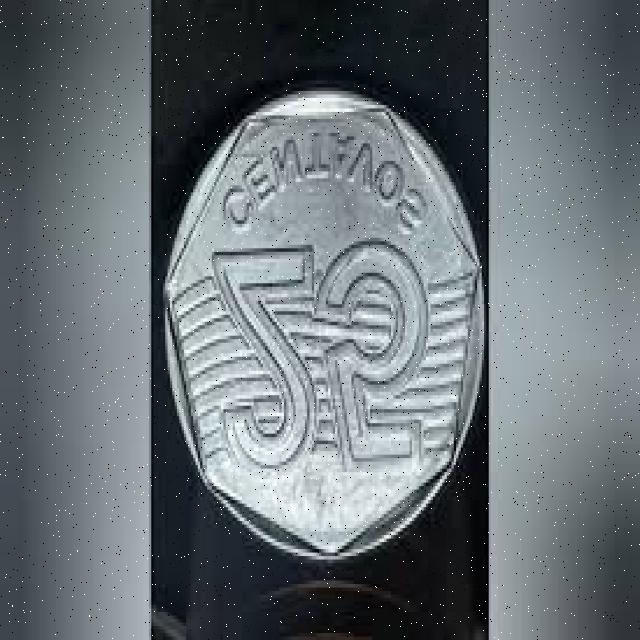25 cent: (157, 120, 485, 566)
